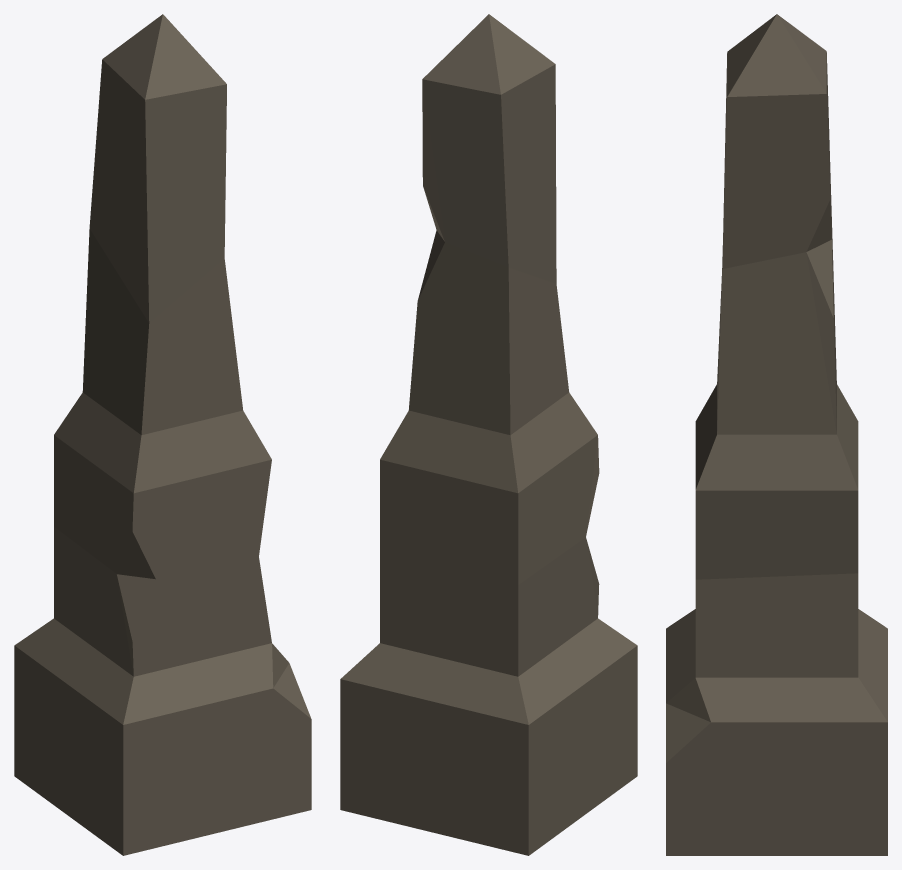
The model's file is Grave_5.fbx.
The picture shows the model from 3 angles, left to right: view 1: azimuth 30°, elevation 25°; view 2: azimuth 150°, elevation 25°; view 3: azimuth 270°, elevation 25°; orthographic projection. The views are drawn at different scales.
Visible parts, largest first — view 1: Grave_5; view 2: Grave_5; view 3: Grave_5.
Part boxes in pixels (bbox=[...]): Grave_5: bbox=[14, 14, 311, 855]; Grave_5: bbox=[340, 14, 637, 855]; Grave_5: bbox=[666, 14, 887, 855].
Bounding box in the file's own units: 89.58 × 354 × 89.58.
